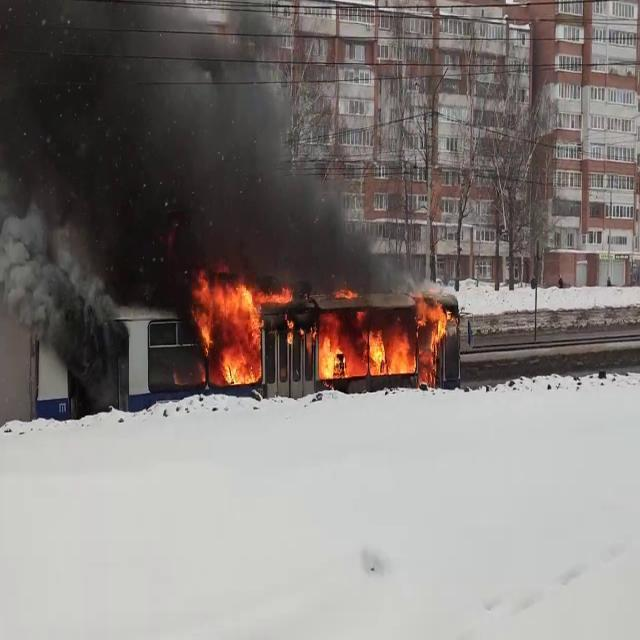Fire: (313, 292, 456, 382), (188, 274, 274, 384)
Smoke: (0, 2, 392, 304)
